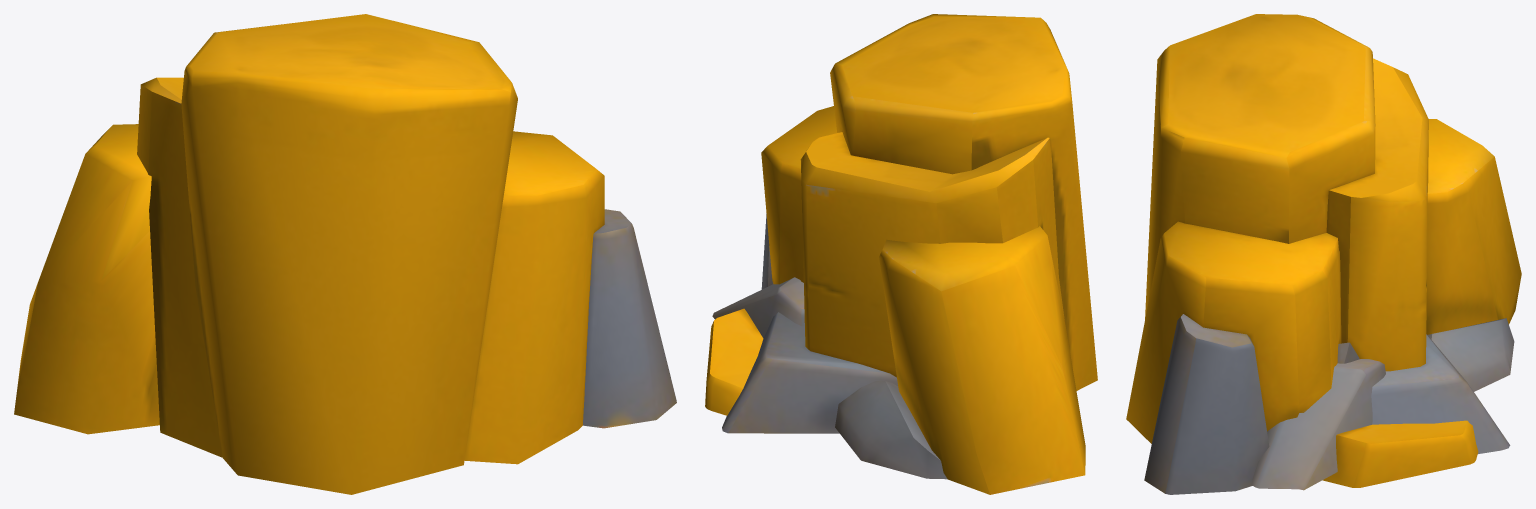
The model's file is jinkuang_001.fbx.
The picture shows the model from 3 angles, left to right: view 1: azimuth 30°, elevation 25°; view 2: azimuth 150°, elevation 25°; view 3: azimuth 270°, elevation 25°; orthographic projection. The views are drawn at different scales.
Visible parts, largest first — view 1: jinkuang_001; view 2: jinkuang_001; view 3: jinkuang_001.
Boxes of the visible parts, bbox=[...] form: jinkuang_001: bbox=[14, 14, 676, 494]; jinkuang_001: bbox=[705, 14, 1097, 494]; jinkuang_001: bbox=[1126, 14, 1521, 494].
Size of the model in its own units: 902 by 650 by 707.
